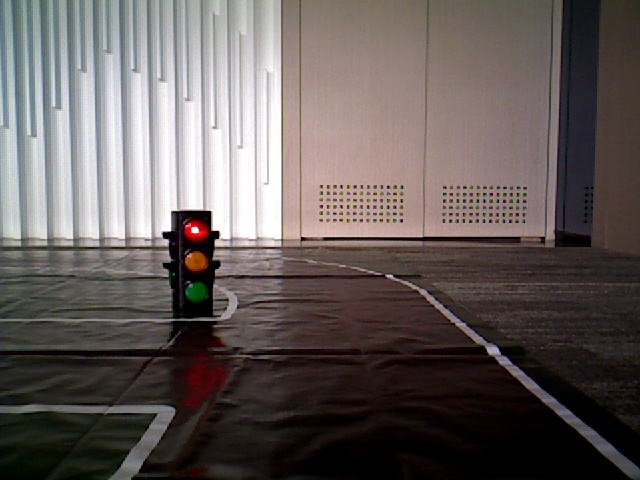red: (173, 213, 212, 307)
